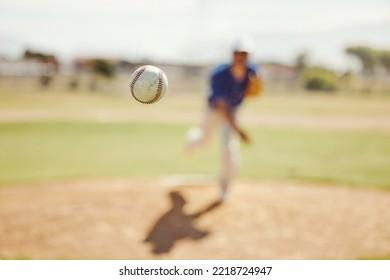baseball: (128, 63, 168, 107)
